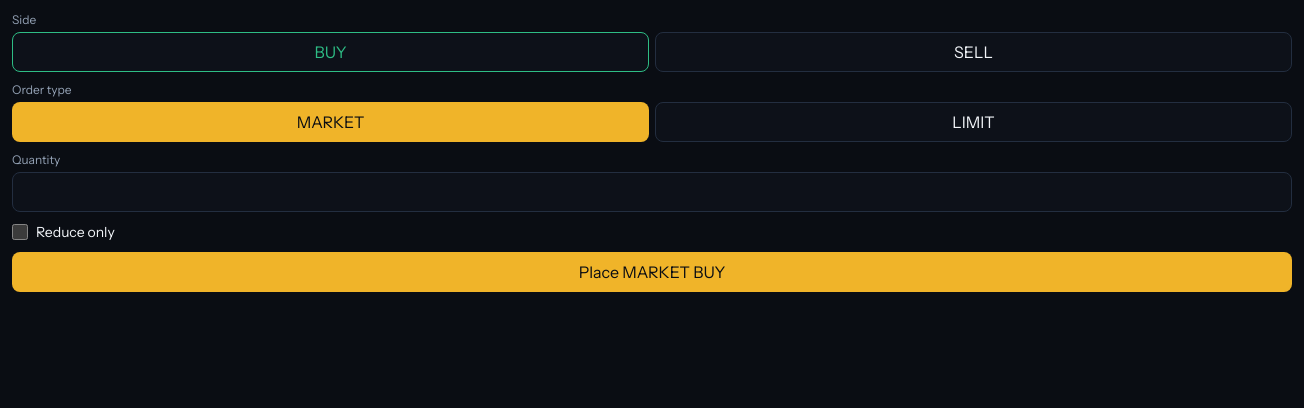
Scenario: OrderForm › renders a resting limit acknowledgement from the response
Step 1. Click the button "LIMIT" → (974, 122), box [655,102,1292,142]
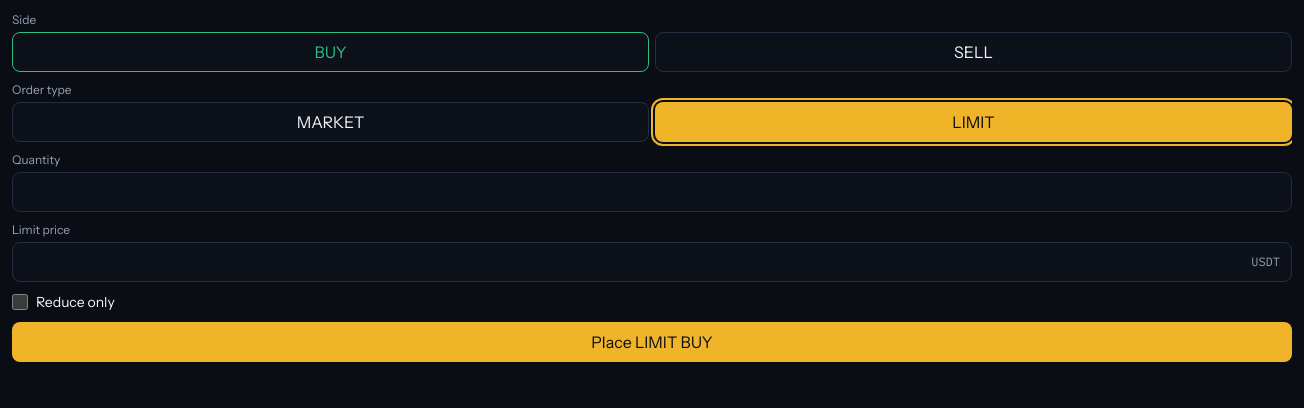
Step 2. Type "0.5" into the field labelled "Quantity" → (652, 192), box [12,172,1292,212]
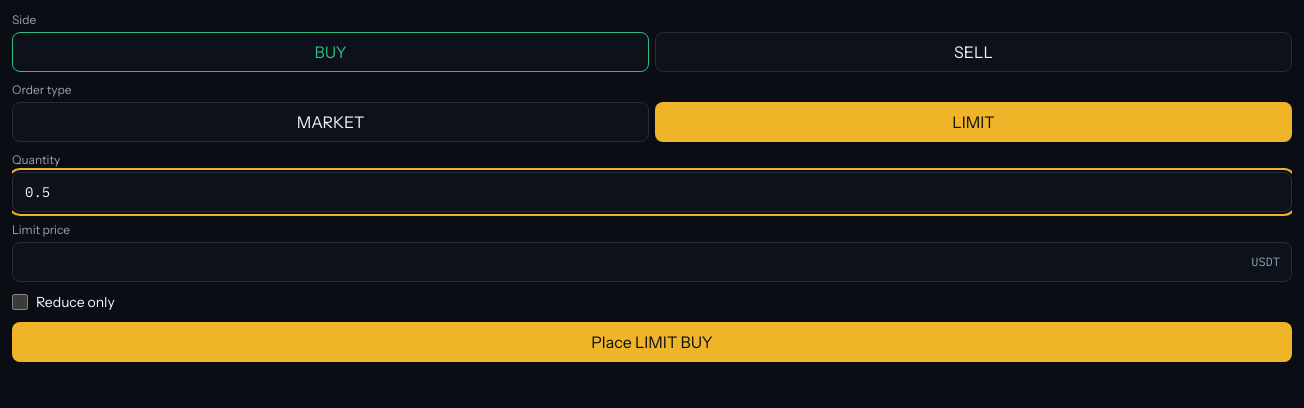
Step 3. Type "2500" into the field labelled "Limit price" → (652, 262), box [12,242,1292,282]
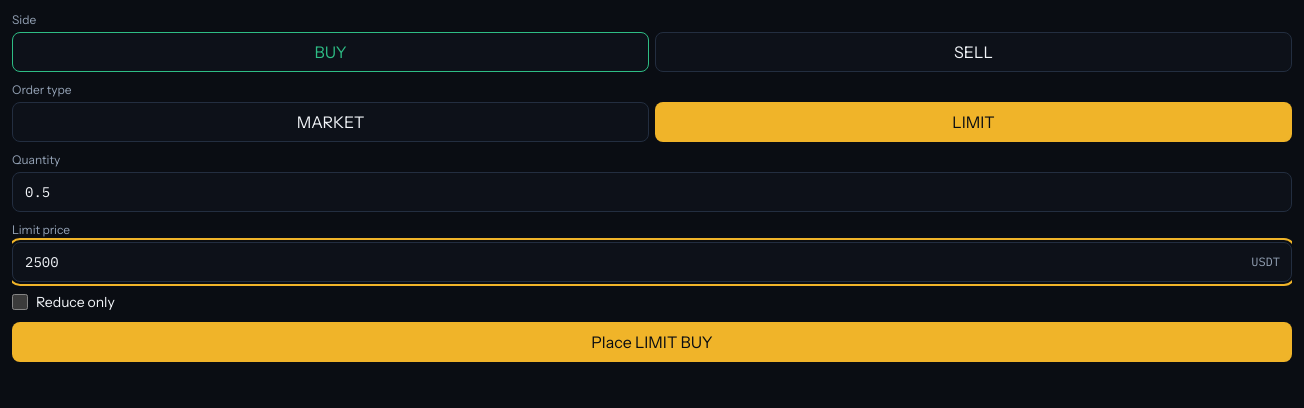
Step 4. Click the button "Place LIMIT BUY" → (652, 342), box [12,322,1292,362]
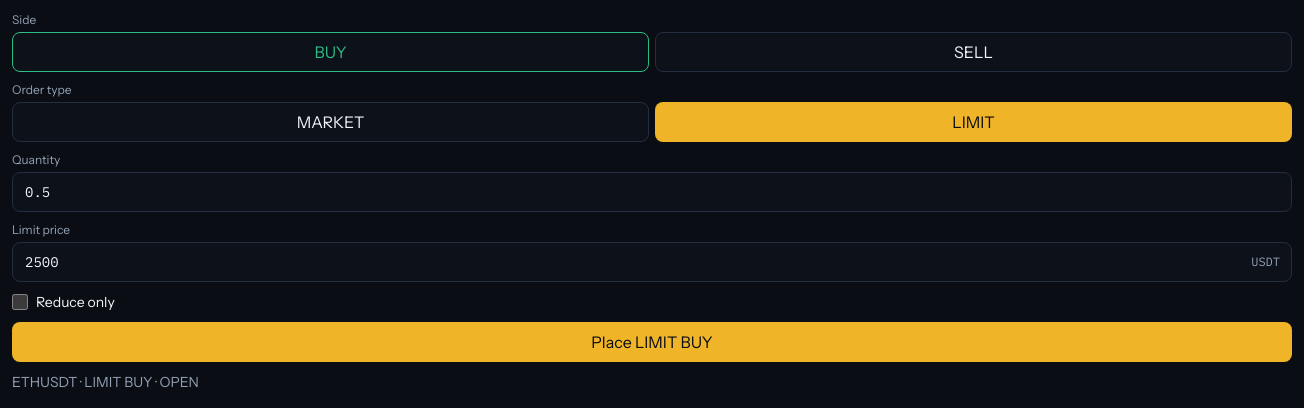
Expected: the message reads "ETHUSDT · LIMIT BUY · OPEN", [12,373,199,391]
